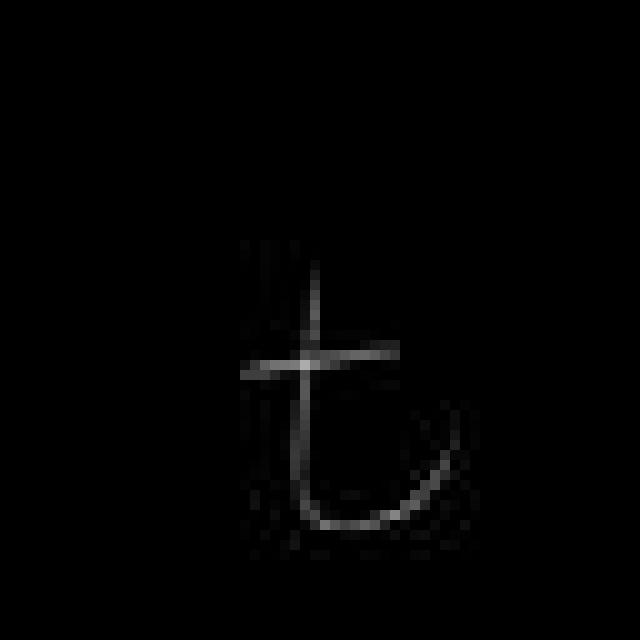7 -seven-: (233, 278, 460, 539)
